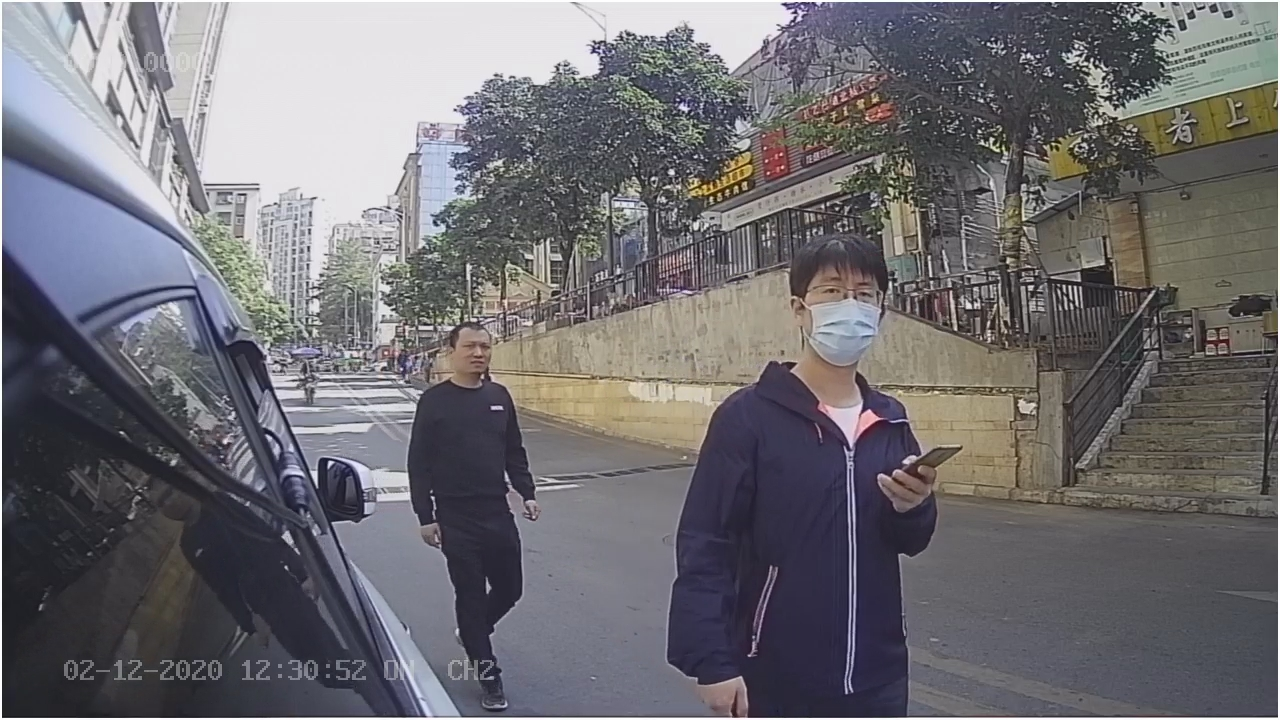person: (675, 229, 947, 536), (400, 313, 546, 549)
